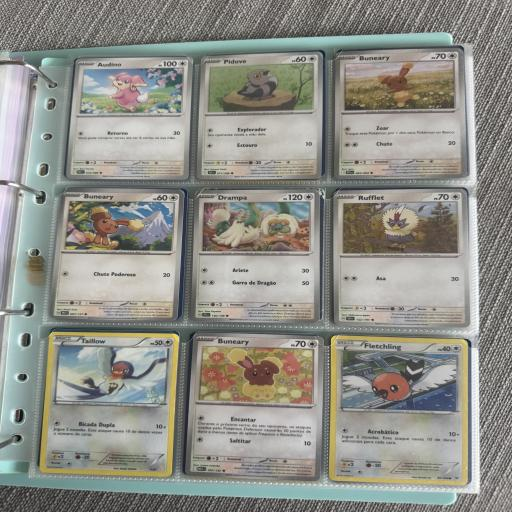card: (184, 330, 327, 481), (329, 335, 469, 485), (39, 329, 179, 477), (330, 188, 470, 331), (330, 48, 467, 181), (49, 187, 184, 321), (190, 189, 320, 324), (196, 50, 323, 180), (65, 55, 194, 180)
